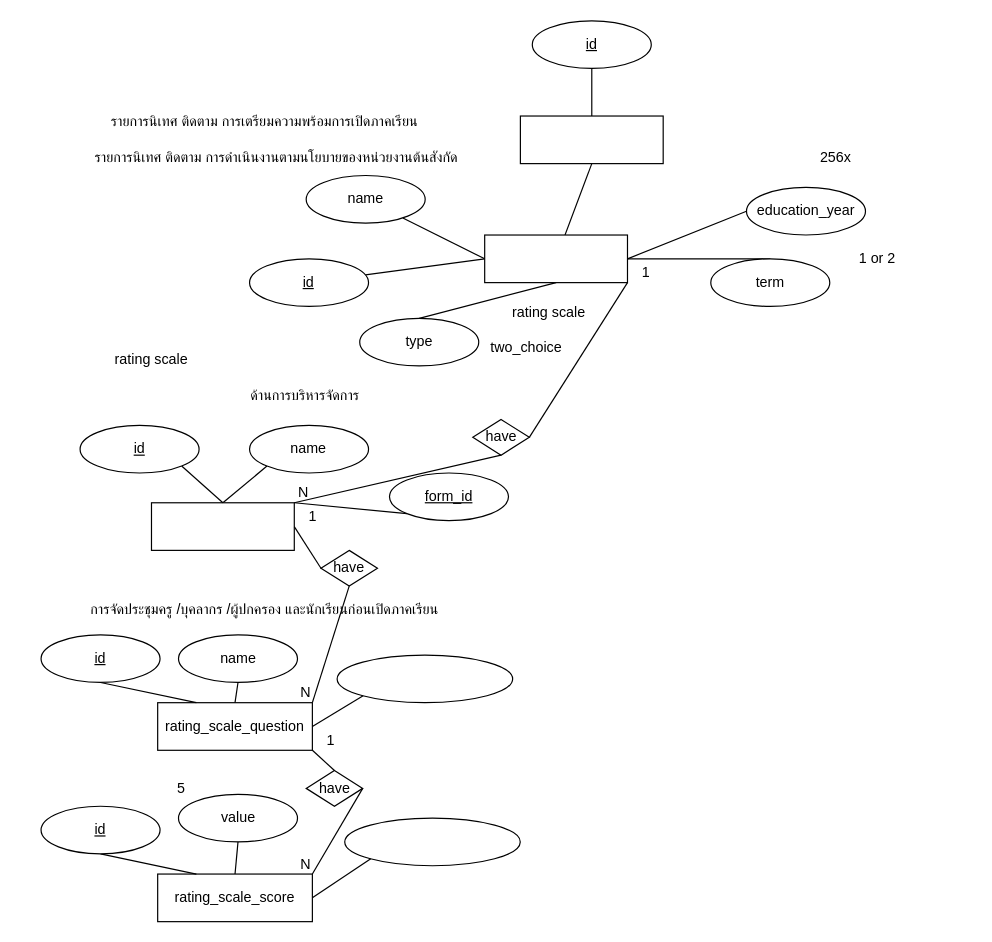
Some shapes in this 992 by 942 pixel diagram are drawn without their labels. Each missing label, with the centre of its shape:
Form: [555,258]
rating_scale_question_id: [432,841]
rating_scale_type: [222,526]
rating_scale_type_id: [424,678]
School: [591,139]
